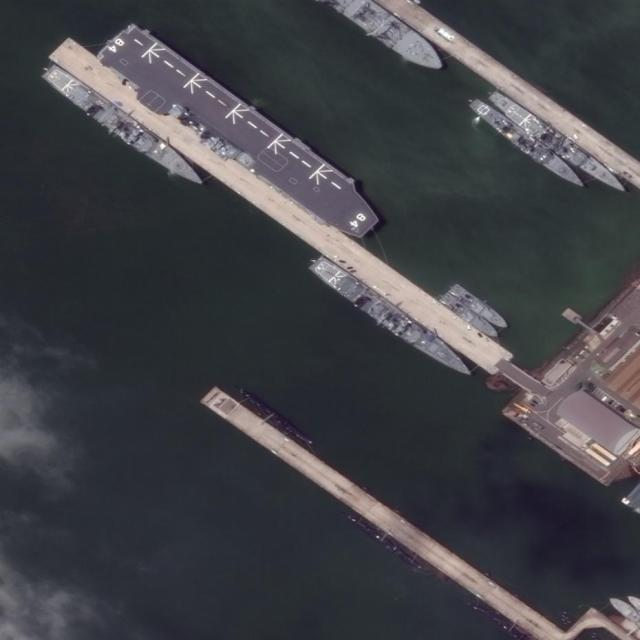Destroyer: (94, 14, 386, 250), (39, 59, 209, 194), (306, 251, 478, 383), (485, 87, 631, 197), (465, 95, 592, 191)
Dock: (47, 36, 535, 395)
Other Warship: (448, 281, 513, 334), (440, 292, 504, 344)
Submarine: (336, 504, 425, 571), (236, 385, 314, 448)
